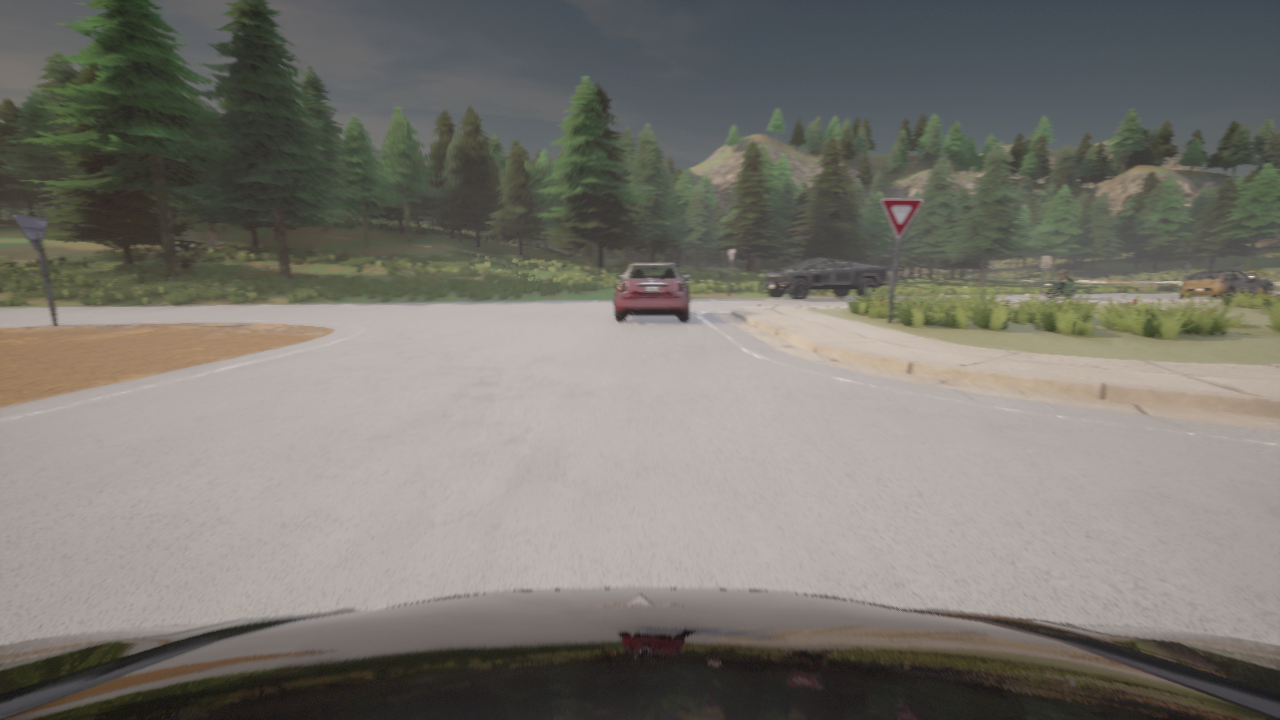cyclist: (0, 588, 1279, 719), (764, 258, 888, 300), (614, 263, 689, 322), (1179, 270, 1266, 298), (1044, 278, 1078, 299), (1244, 273, 1273, 296)
